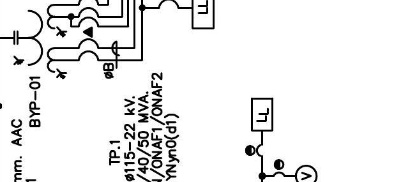115_cvt_3p: (13, 3, 68, 80)
LL: (251, 97, 274, 132)
